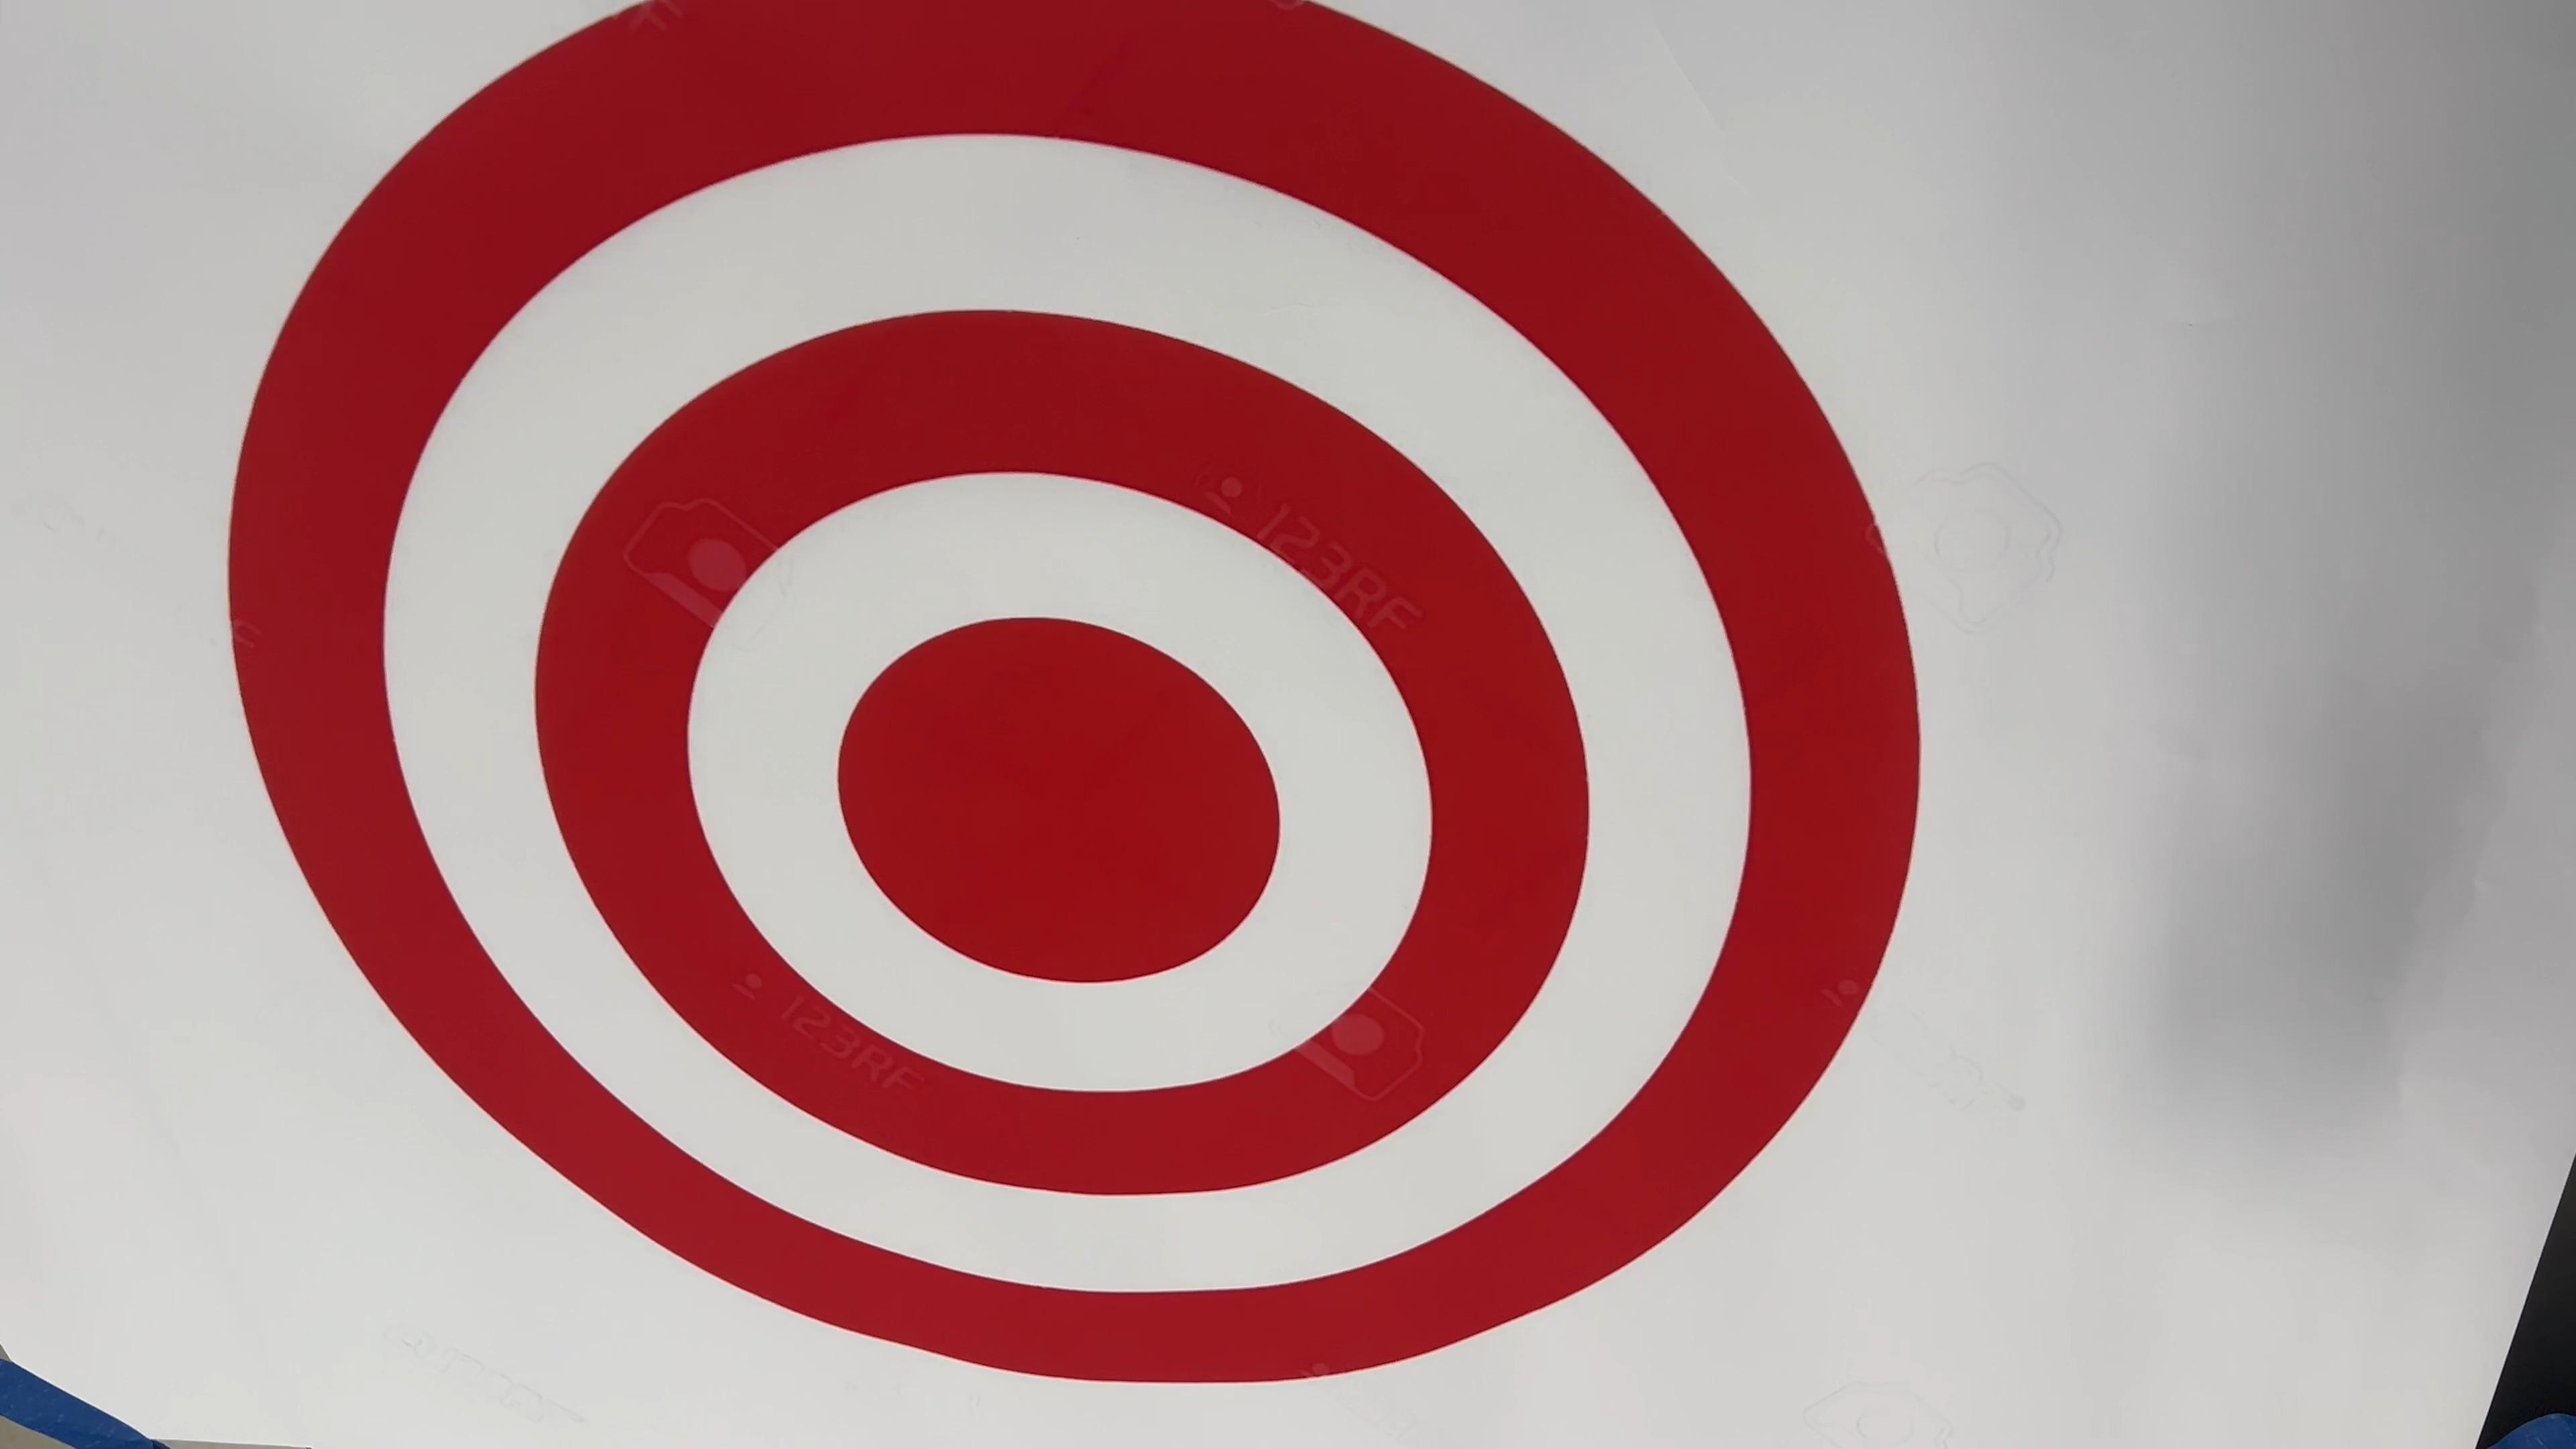target_red: (216, 0, 1944, 1385)
